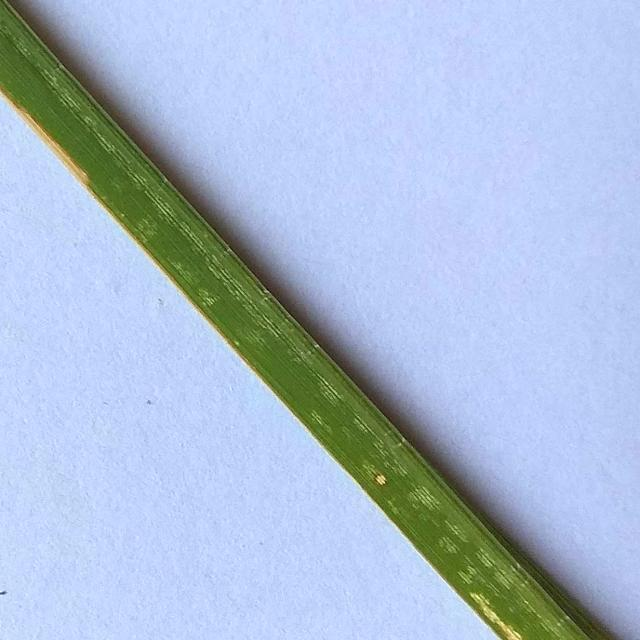Blast: (371, 468, 391, 488)
